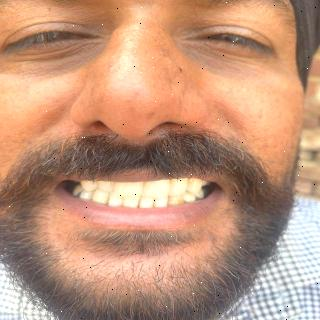stains: (168, 195, 188, 207), (103, 193, 113, 207), (138, 183, 150, 193), (118, 196, 128, 207), (185, 178, 195, 188), (136, 197, 144, 209), (152, 198, 159, 208), (166, 179, 174, 187)
